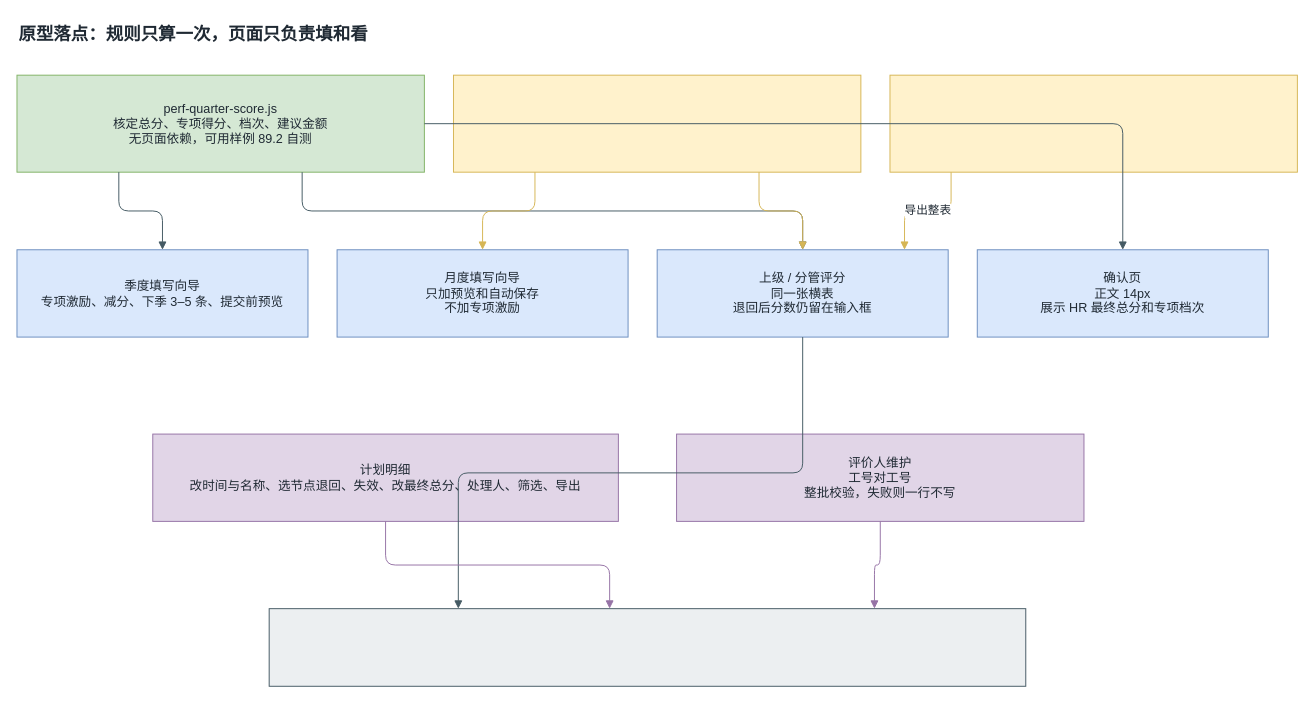
This 1314x703 diagram has some shape labels left out. The shapes that lost their labels are listed below. From the top down, each one's box as (x1, y1, x2, y2) in pixels, then its label:
(453, 74, 861, 172): perf-autosave.js 季度、月度、评分页共用 变脏后 2 分钟保存，手动保存走同一入口
(889, 74, 1297, 172): perf-export-image.js 计划明细和评分页调用 先画出整表，再导出图片
(268, 608, 1026, 686): 浏览器本地草稿 填写内容、评分、计划名单、评价关系 失效只改本期名单，不改范围包模板
